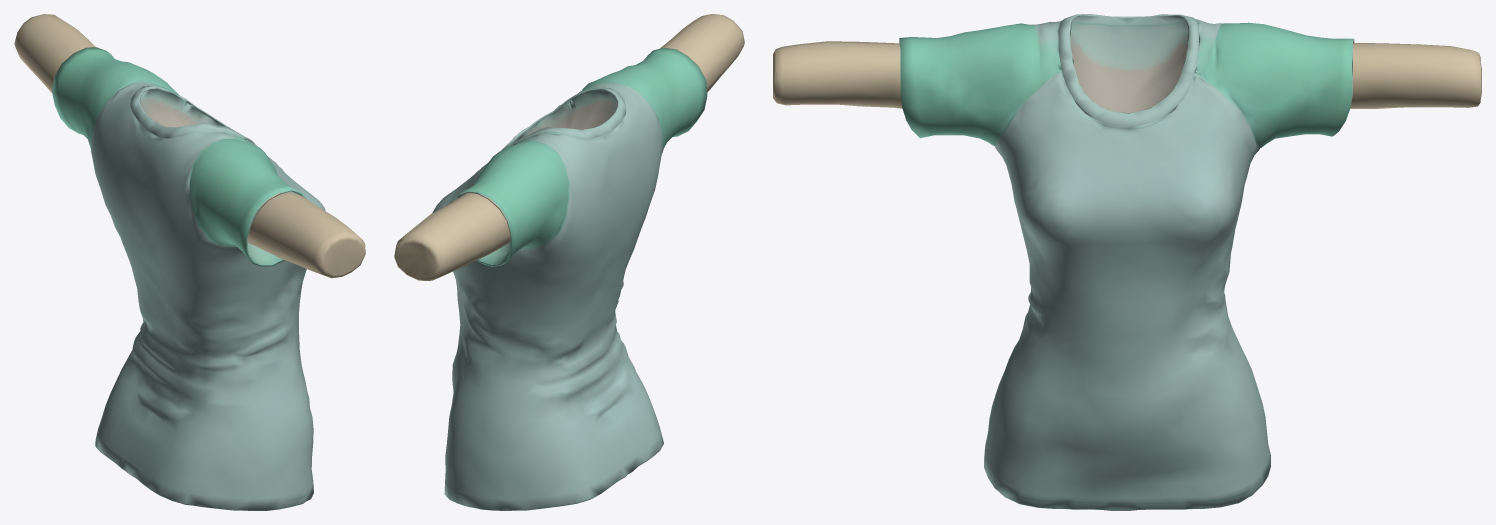
3 renders of one model, left to right at view 1: azimuth 30°, elevation 25°; view 2: azimuth 150°, elevation 25°; view 3: azimuth 270°, elevation 25°, orthographic. The views are drawn at different scales.
Visible parts, largest first — view 1: tripo_node_81628861-666d-456f-9fc9-aeb8aaa7b842; view 2: tripo_node_81628861-666d-456f-9fc9-aeb8aaa7b842; view 3: tripo_node_81628861-666d-456f-9fc9-aeb8aaa7b842.
Part boxes in pixels (x1,y1,x2,y2): tripo_node_81628861-666d-456f-9fc9-aeb8aaa7b842: (14,14,365,510); tripo_node_81628861-666d-456f-9fc9-aeb8aaa7b842: (394,14,744,510); tripo_node_81628861-666d-456f-9fc9-aeb8aaa7b842: (773,14,1481,510).
Size of the model in its own units: 0.3184 by 0.6777 by 0.998.
1 material, 1 textured.
